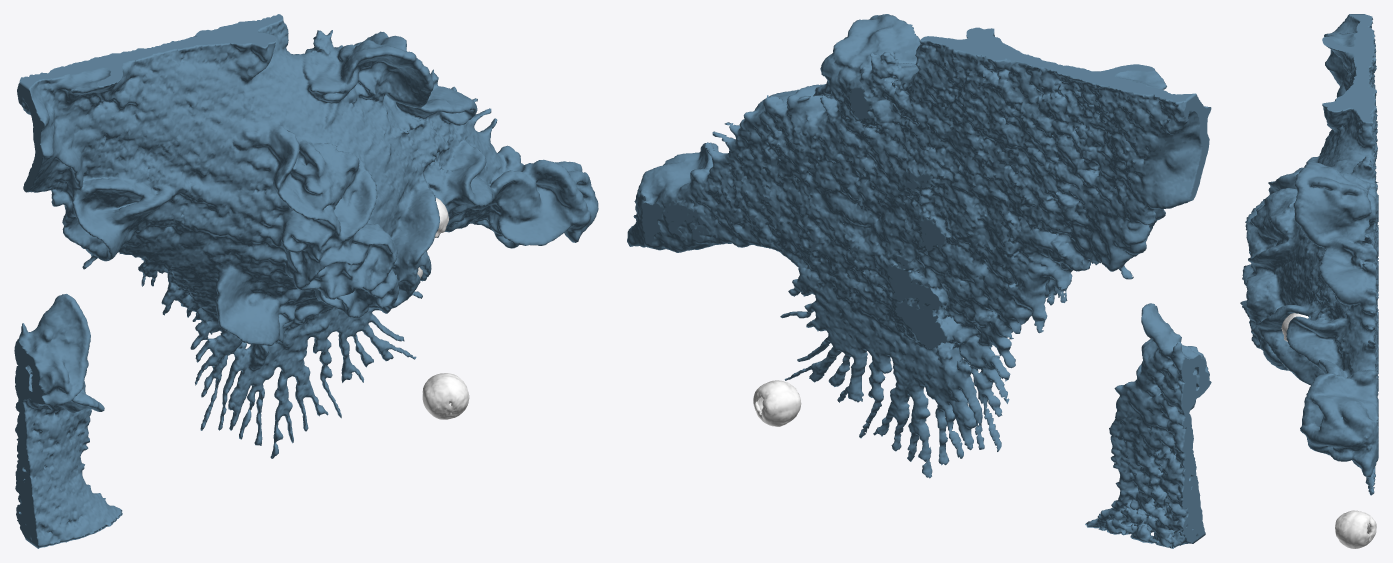
3 views of the same model, side by side, from view 1: azimuth 30°, elevation 25°; view 2: azimuth 150°, elevation 25°; view 3: azimuth 270°, elevation 25° (orthographic). The views are drawn at different scales.
Visible parts, largest first — view 1: surface (×2); view 2: surface (×2); view 3: surface (×2).
Part boxes in pixels (x1,y1,x2,y2): surface (×2): [14, 14, 598, 548]; surface (×2): [627, 14, 1211, 548]; surface (×2): [1240, 14, 1378, 548].
Size of the model in its own units: 569 by 436 by 144.
